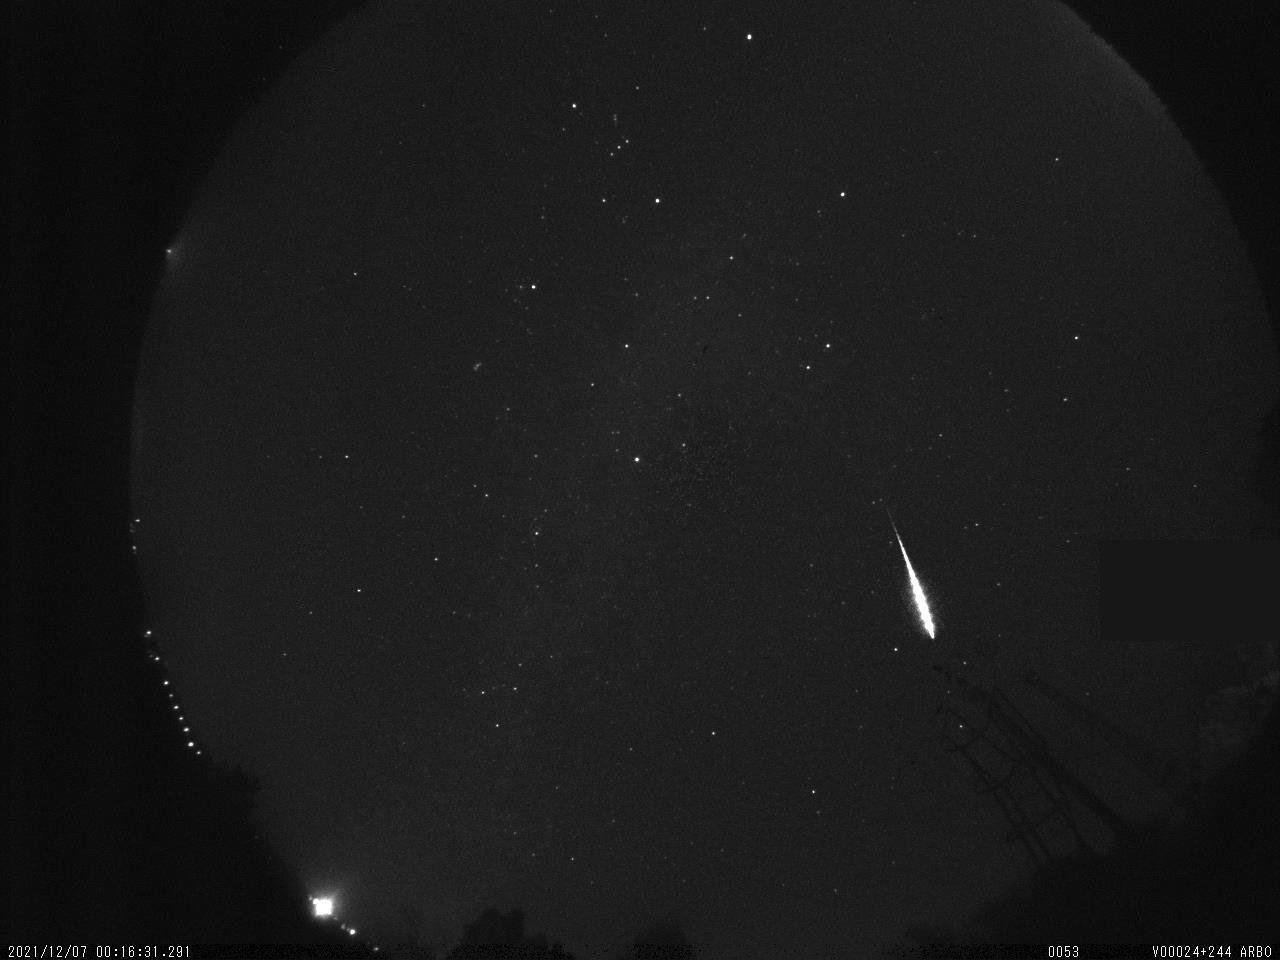meteor: (874, 506, 964, 648)
